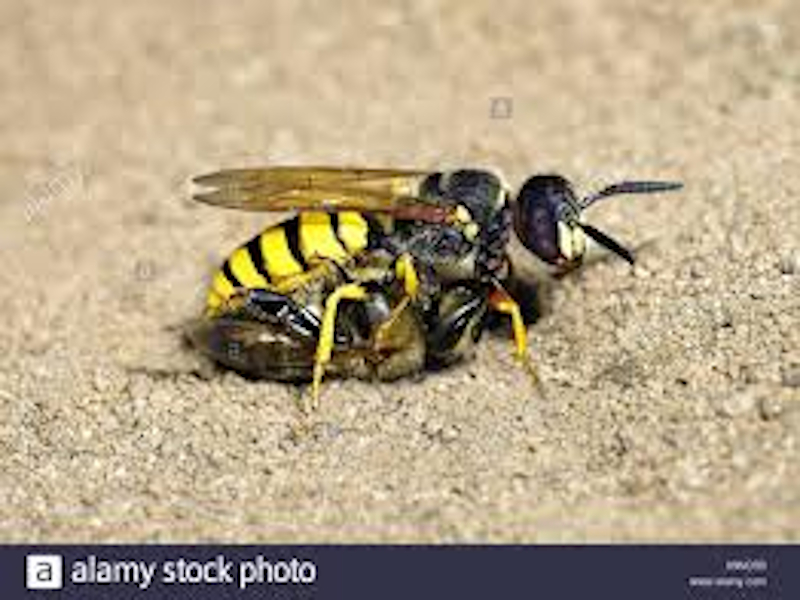chax: (171, 102, 701, 359)
